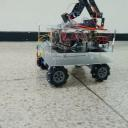cart: (38, 24, 118, 88)
